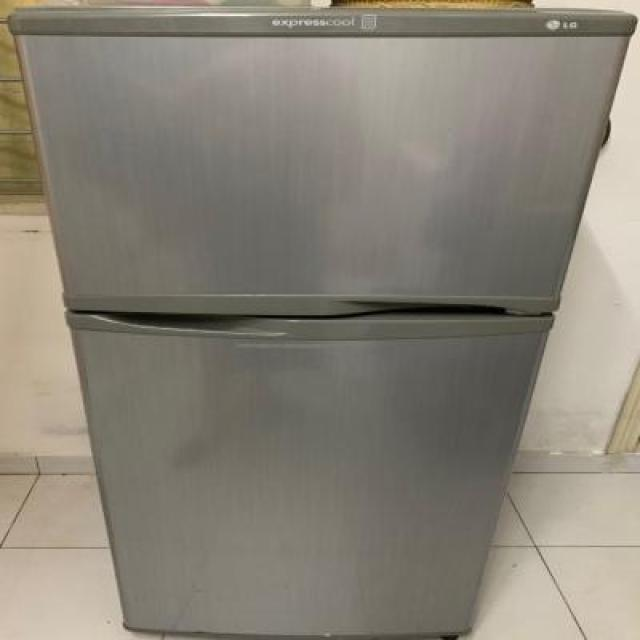refrigerator: (6, 7, 640, 638)
